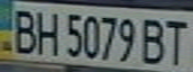0: (78, 11, 100, 60)
5: (60, 9, 84, 58)
7: (100, 12, 118, 62)
9: (115, 14, 142, 63)
B: (136, 15, 172, 65), (6, 4, 39, 55)
H: (30, 7, 60, 55)
T: (160, 15, 193, 66)
